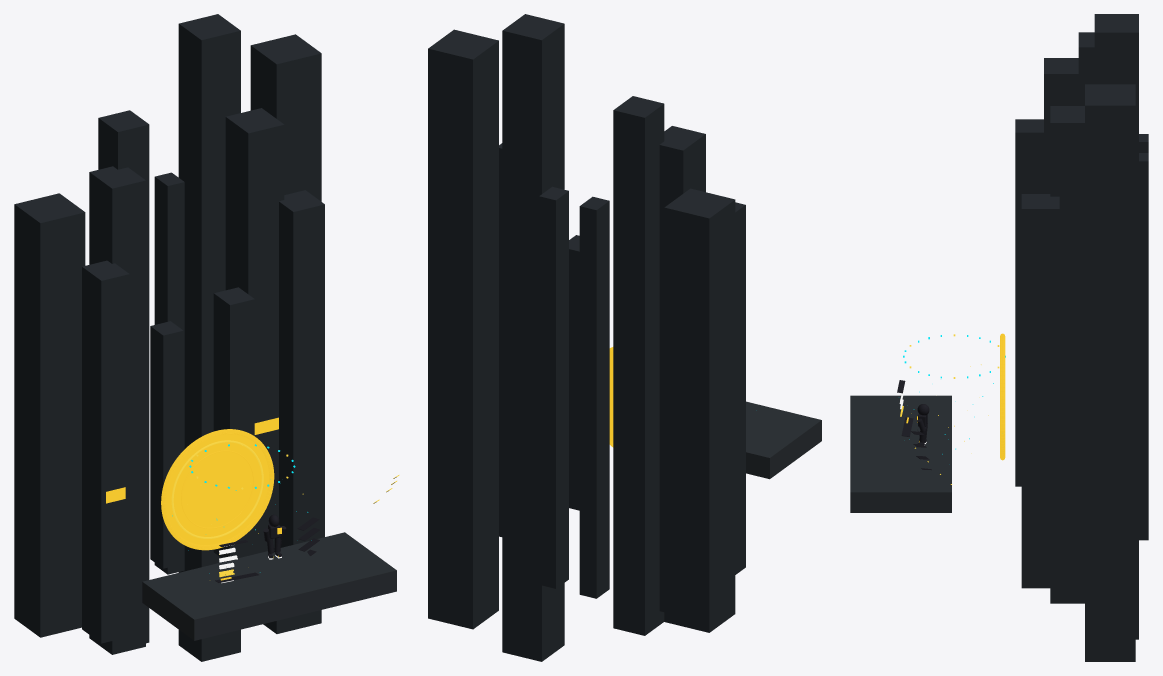
Rendered from hero_scene.glb.
3 renders of one model, left to right at view 1: azimuth 30°, elevation 25°; view 2: azimuth 150°, elevation 25°; view 3: azimuth 270°, elevation 25°, orthographic. The views are drawn at different scales.
Visible parts, largest first — view 1: CityTower_04, CityTower_10, CityTower_01, CityTower_08, RooftopPlatform, CityTower_07, CityTower_02, CityTower_09, Portal_EnergyHalo, CityTower_05, CityTower_06, CityTower_12 (+3 smaller); view 2: CityTower_09, CityTower_04, CityTower_10, CityTower_03, CityTower_11, CityTower_12, CityTower_02, RooftopPlatform, CityTower_01, CityTower_06, CityTower_08; view 3: CityTower_09, CityTower_08, CityTower_07, RooftopPlatform, CityTower_10, CityTower_01, CityTower_12, CityTower_02, CityTower_03, Portal_OuterRing.
Part boxes in pixels (x1,y1,x2,y2): CityTower_04: (14,193,85,637); CityTower_10: (178,14,240,661); CityTower_01: (82,260,129,643); CityTower_08: (279,190,324,547); RooftopPlatform: (142,532,396,640); CityTower_07: (225,108,284,553); CityTower_02: (89,166,145,654); CityTower_09: (250,34,321,633); Portal_EnergyHalo: (166,434,268,544); CityTower_05: (150,321,183,568); CityTower_06: (213,287,254,558); CityTower_12: (154,172,184,574); CityTower_09: (428,29,498,629); CityTower_04: (664,188,735,632); CityTower_10: (502,14,564,661); CityTower_03: (613,96,664,635); CityTower_11: (579,196,609,598); CityTower_12: (539,186,568,588); CityTower_02: (659,126,705,611); RooftopPlatform: (746,401,821,479); CityTower_01: (735,202,745,574); CityTower_06: (569,235,579,510); CityTower_08: (499,143,502,536); CityTower_09: (1085,84,1135,661); CityTower_08: (1021,194,1059,588); CityTower_07: (1050,106,1084,603); RooftopPlatform: (850,395,951,512); CityTower_10: (1094,14,1138,639); CityTower_01: (1015,119,1043,486); CityTower_12: (1139,153,1148,540); CityTower_02: (1044,58,1078,193); CityTower_03: (1078,32,1094,105); Portal_OuterRing: (1000,333,1005,460).
Bounding box in the file's own units: 25 × 52.8 × 23.5.
